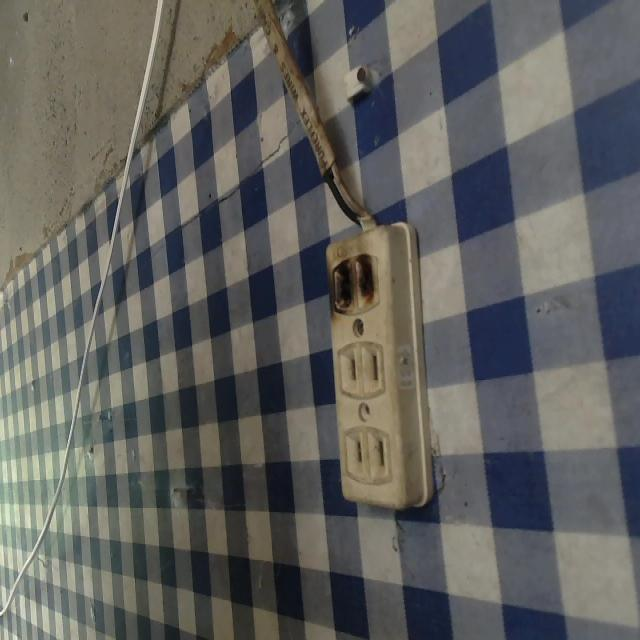-: (322, 249, 379, 315)
